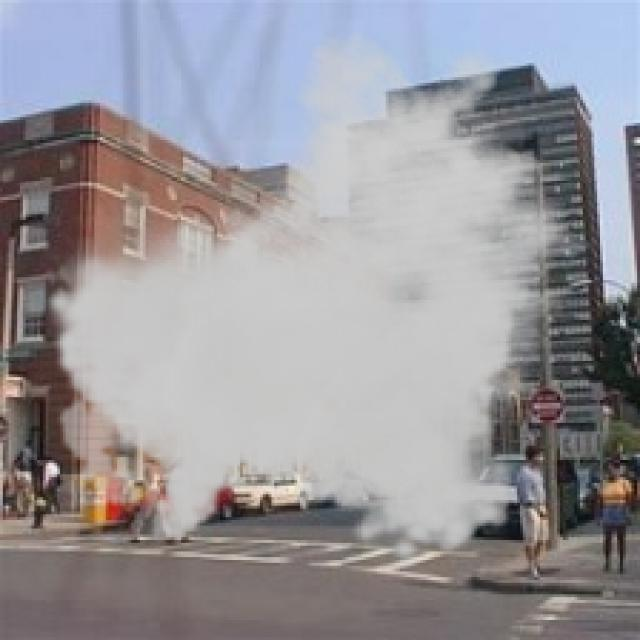Smoke: (43, 31, 612, 566)
